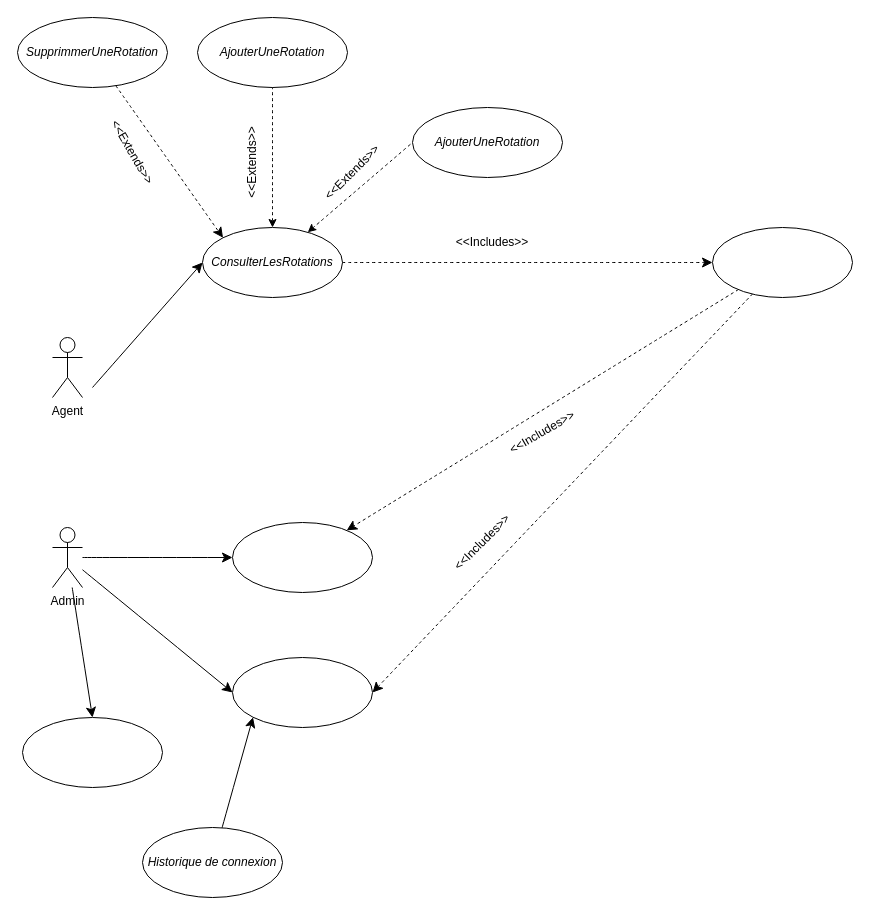
This 870x915 diagram has some shape labels left out. The centre of each missing label's shape, as x and y in pixels:
"ConsulterAudit" belongs at point (302, 692).
"ConsulterPowerBi" belongs at point (302, 557).
"DemandeAjoutAgent" belongs at point (92, 752).
"S'authentifier" belongs at point (782, 262).
